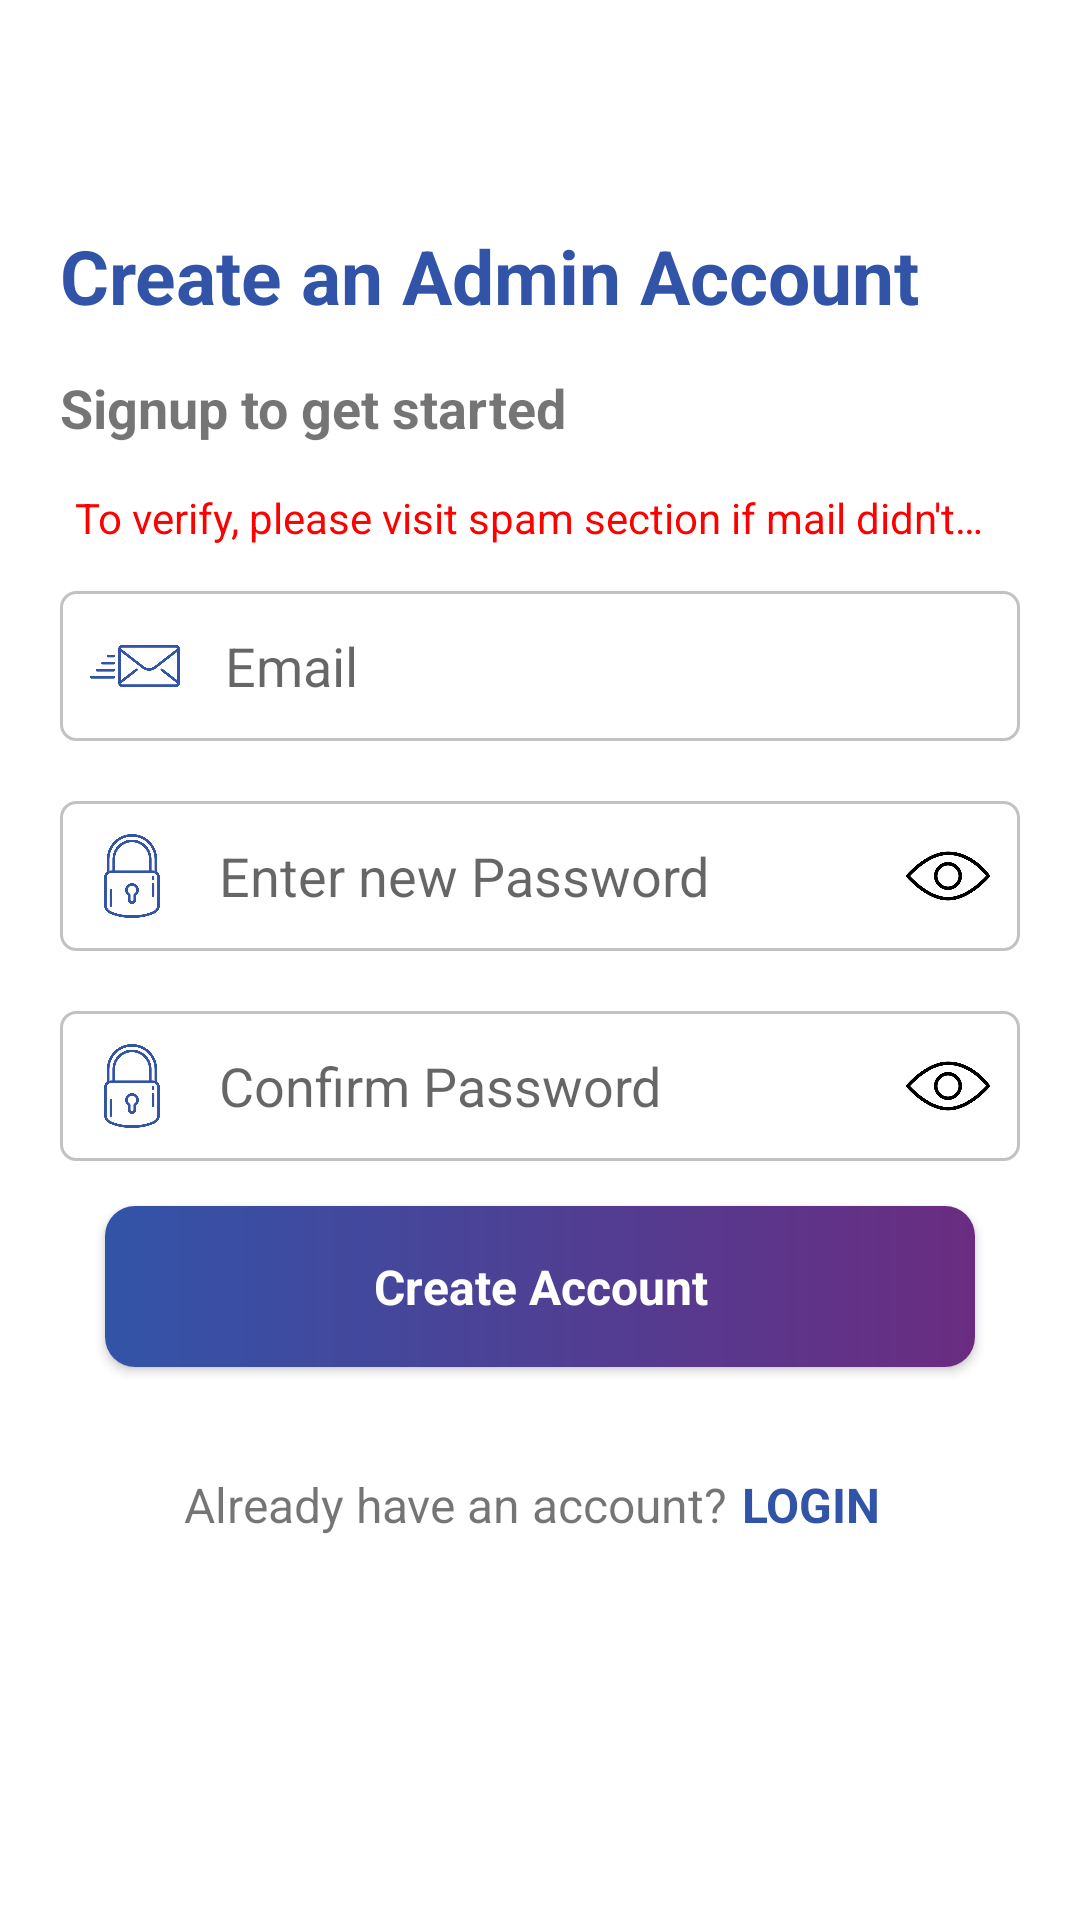

Icons on this 1080×1920 Android screen, each with the point to tap as point (x, y):
eye: point (948, 876), point (948, 1086)
loock: point (132, 876), point (132, 1086)
